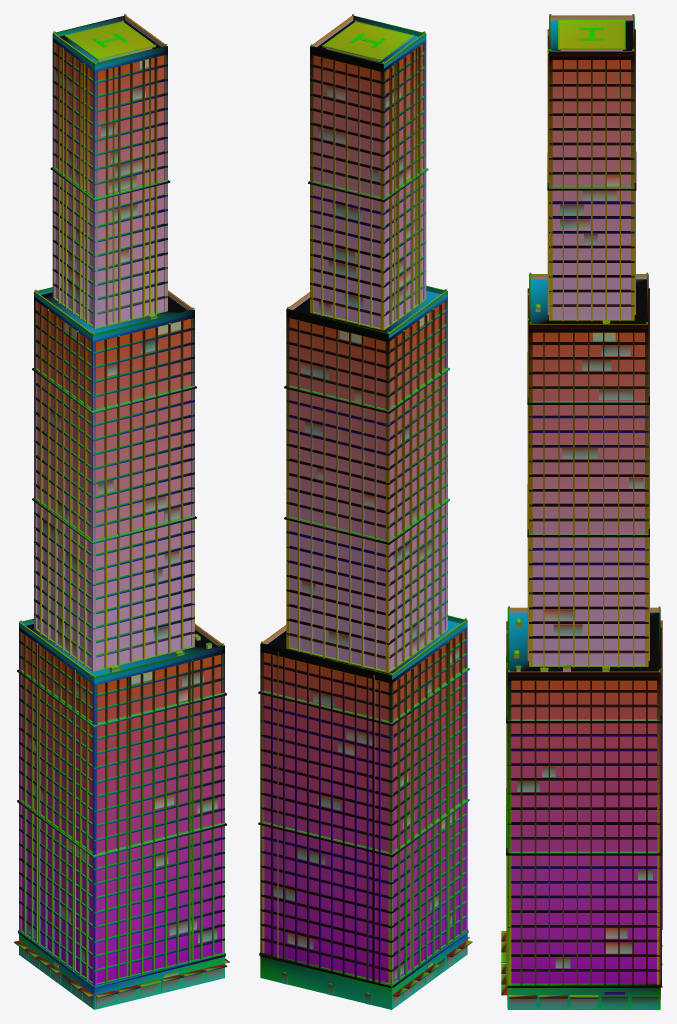
The model's file is Tower_Spire_V8.fbx.
3 views of the same model, side by side, from view 1: azimuth 30°, elevation 25°; view 2: azimuth 150°, elevation 25°; view 3: azimuth 270°, elevation 25° (orthographic).
Visible parts, largest first — view 1: Tower_Spire_V8_LOD0; view 2: Tower_Spire_V8_LOD0; view 3: Tower_Spire_V8_LOD0.
Boxes of the visible parts, box(x1,y1,x2,y2) form: Tower_Spire_V8_LOD0: box(14, 14, 229, 1009); Tower_Spire_V8_LOD0: box(258, 14, 472, 1009); Tower_Spire_V8_LOD0: box(501, 14, 662, 1009).
Size of what is drawn, in the model's own units: 36.8 by 231 by 35.83.
